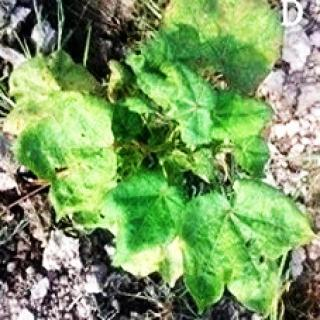curl: (10, 60, 114, 208), (195, 202, 308, 316), (162, 0, 283, 80), (126, 181, 182, 289)
